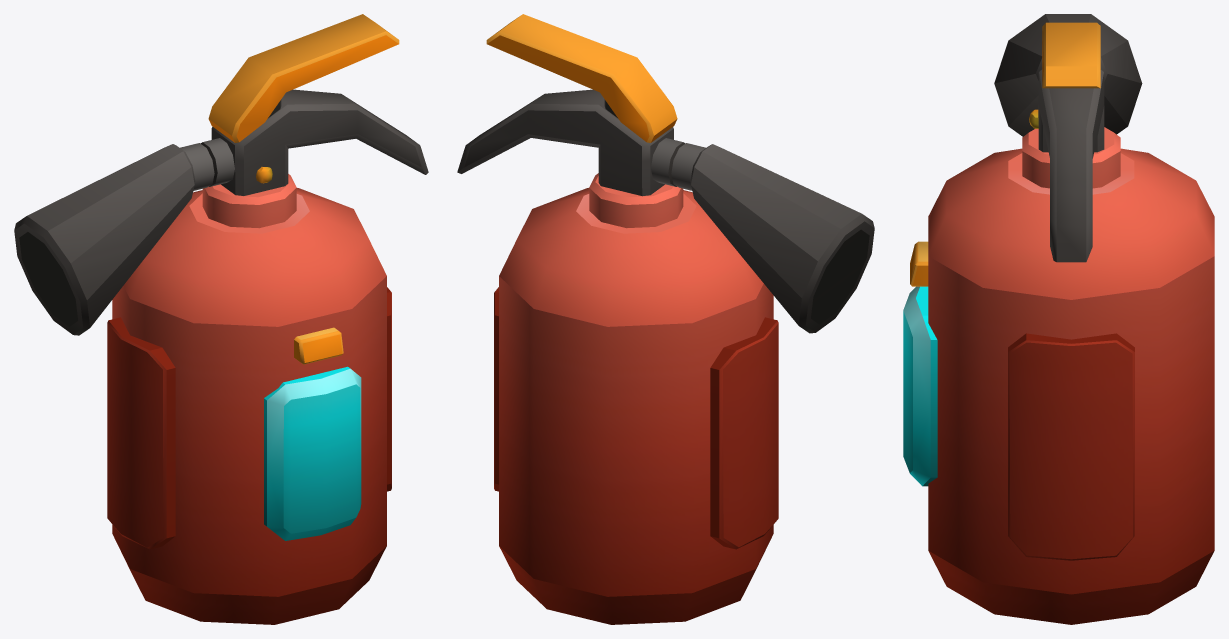
The model's file is Fire_Extinguisher_3.fbx.
The picture shows the model from 3 angles, left to right: view 1: azimuth 30°, elevation 25°; view 2: azimuth 150°, elevation 25°; view 3: azimuth 270°, elevation 25°; orthographic projection. The views are drawn at different scales.
Visible parts, largest first — view 1: Cylinder.013; view 2: Cylinder.013; view 3: Cylinder.013.
Part boxes in pixels (x1,y1,x2,y2): Cylinder.013: (14, 14, 428, 624); Cylinder.013: (457, 14, 874, 624); Cylinder.013: (903, 14, 1214, 624).
Bounding box in the file's own units: 40.06 × 51.35 × 25.44.
